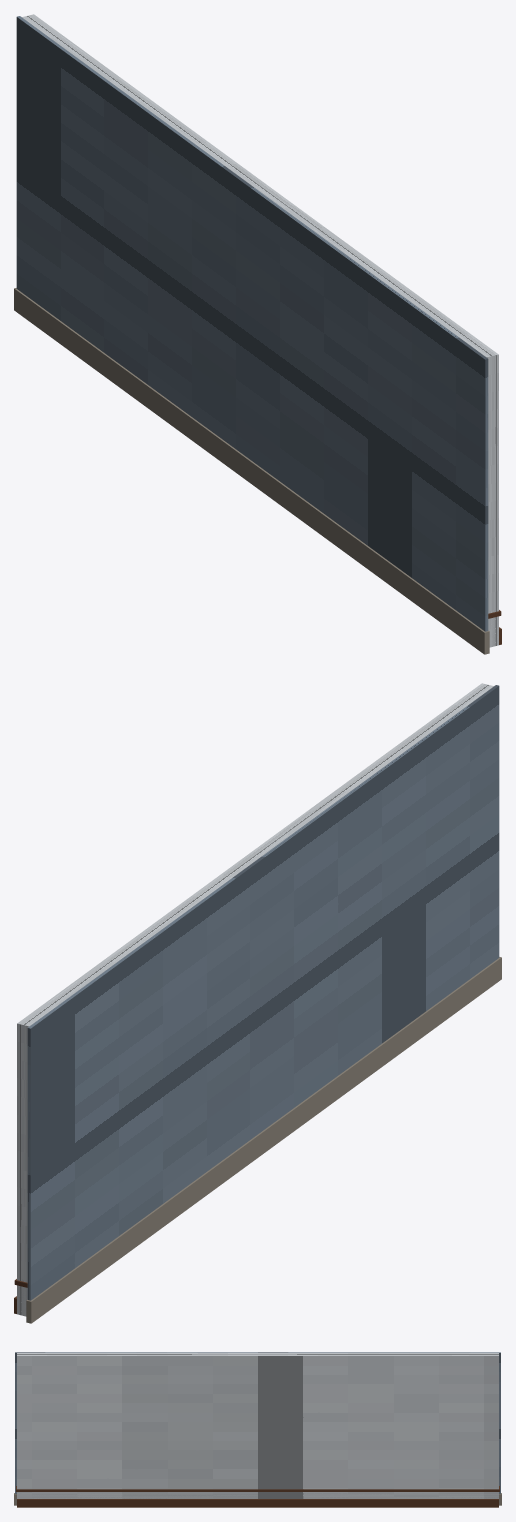
File: left.glb
3 views of the same model, one above another, from view 1: azimuth 30°, elevation 25°; view 2: azimuth 150°, elevation 25°; view 3: azimuth 270°, elevation 25° (orthographic). The views are drawn at different scales.
Parts seen in each view (by area): view 1: Box3, Box4, Box1; view 2: Box3, Box4, Box1; view 3: Box1, Box2, Box5, Box6, Box3.
Boxes of the visible parts, x1,y1,x2,y2 form: Box3: (16, 16, 488, 631); Box4: (14, 288, 489, 654); Box1: (22, 14, 498, 647); Box3: (27, 685, 499, 1300); Box4: (26, 957, 501, 1323); Box1: (17, 683, 493, 1316); Box1: (17, 1353, 498, 1498); Box2: (17, 1499, 498, 1507); Box5: (17, 1492, 498, 1498); Box6: (16, 1486, 499, 1491); Box3: (15, 1352, 500, 1493).
Bounding box in the file's own units: 0.25 × 3.44 × 9.97.
4 materials, 2 textured.
